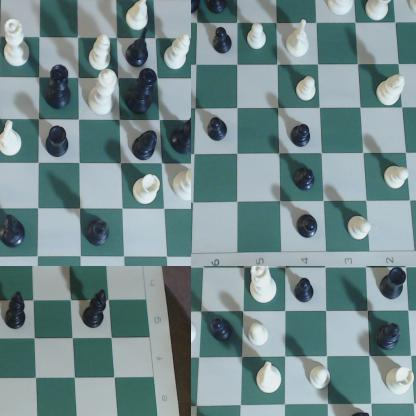black-bishop: (81, 287, 114, 338), (2, 291, 34, 334), (373, 323, 404, 351), (134, 128, 159, 161), (86, 221, 115, 248)
black-king: (133, 69, 161, 119)
black-knight: (2, 210, 31, 251), (128, 29, 156, 70)
black-pawn: (209, 314, 235, 345), (294, 276, 319, 307), (293, 167, 319, 193), (297, 212, 320, 240), (207, 115, 229, 142), (291, 123, 313, 150), (213, 27, 234, 55), (207, 1, 231, 19)
black-queen: (46, 62, 74, 111), (170, 113, 191, 159)
black-rook: (379, 267, 411, 303), (44, 118, 71, 159)
white-bishop: (164, 31, 191, 75), (88, 33, 116, 73), (376, 73, 406, 108)
white-king: (81, 71, 119, 116)
white-knight: (254, 360, 283, 398), (287, 19, 313, 60), (1, 120, 26, 161), (126, 1, 153, 32)
white-pawn: (246, 321, 273, 349), (306, 366, 333, 393), (249, 22, 270, 55), (384, 164, 410, 190), (347, 215, 372, 242), (296, 77, 319, 103)
white-queen: (2, 15, 34, 68), (246, 267, 279, 306), (173, 166, 191, 203), (326, 1, 362, 18)
white-rook: (132, 172, 161, 208), (386, 366, 415, 394), (366, 1, 397, 22), (192, 315, 199, 351)
